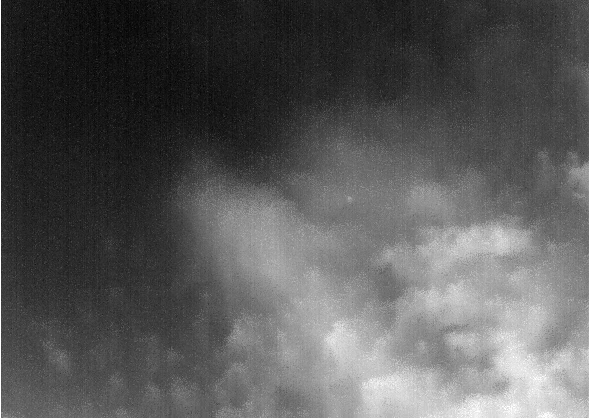dim target: (345, 194, 353, 201)
